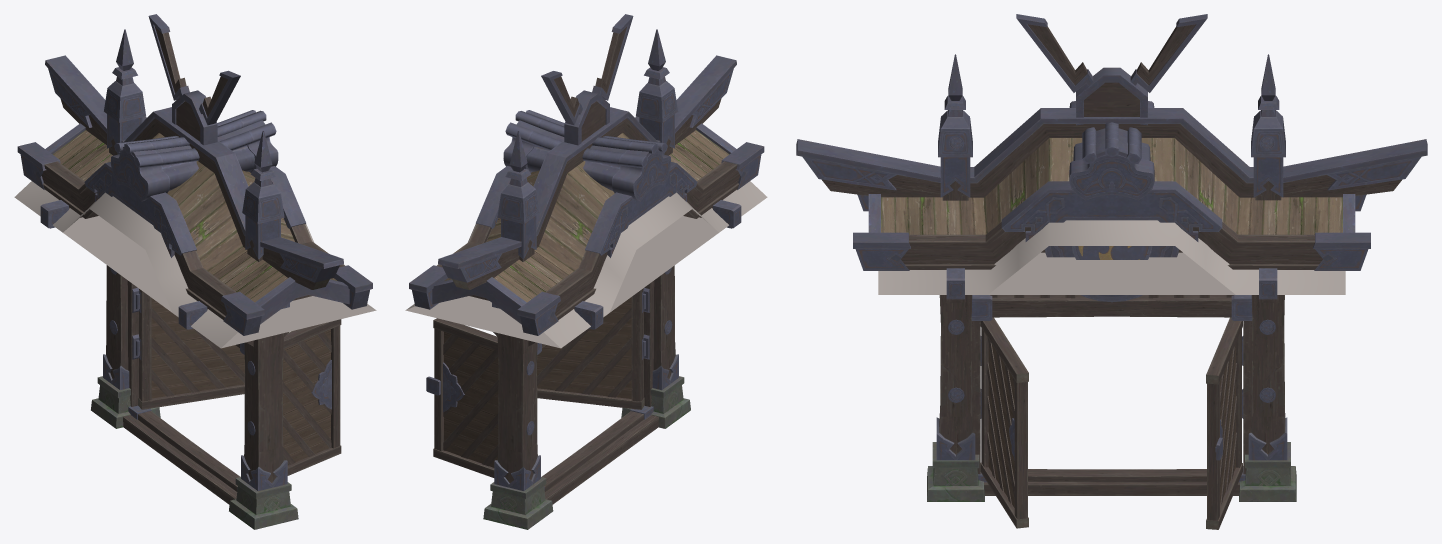
The model's file is Homeworld_Exterior_Dq_Build_House_28_Lod0.fbx.
The picture shows the model from 3 angles, left to right: view 1: azimuth 30°, elevation 25°; view 2: azimuth 150°, elevation 25°; view 3: azimuth 270°, elevation 25°; orthographic projection. The views are drawn at different scales.
Visible parts, largest first — view 1: Area_Dq_Build_SWZ_Mfjunying_03_Lod0, Area_Dq_Build_SWZ_Mfjunying_03_Ocl; view 2: Area_Dq_Build_SWZ_Mfjunying_03_Lod0, Area_Dq_Build_SWZ_Mfjunying_03_Ocl; view 3: Area_Dq_Build_SWZ_Mfjunying_03_Lod0, Area_Dq_Build_SWZ_Mfjunying_03_Ocl.
Boxes of the visible parts, box(x1,y1,x2,y2) form: Area_Dq_Build_SWZ_Mfjunying_03_Lod0: box(17, 14, 372, 529); Area_Dq_Build_SWZ_Mfjunying_03_Ocl: box(14, 181, 376, 348); Area_Dq_Build_SWZ_Mfjunying_03_Lod0: box(409, 14, 764, 529); Area_Dq_Build_SWZ_Mfjunying_03_Ocl: box(405, 181, 767, 348); Area_Dq_Build_SWZ_Mfjunying_03_Lod0: box(796, 14, 1427, 529); Area_Dq_Build_SWZ_Mfjunying_03_Ocl: box(878, 220, 1345, 294).
Size of what is drawn, in the model's own units: 5.74 by 11.82 by 14.29.
